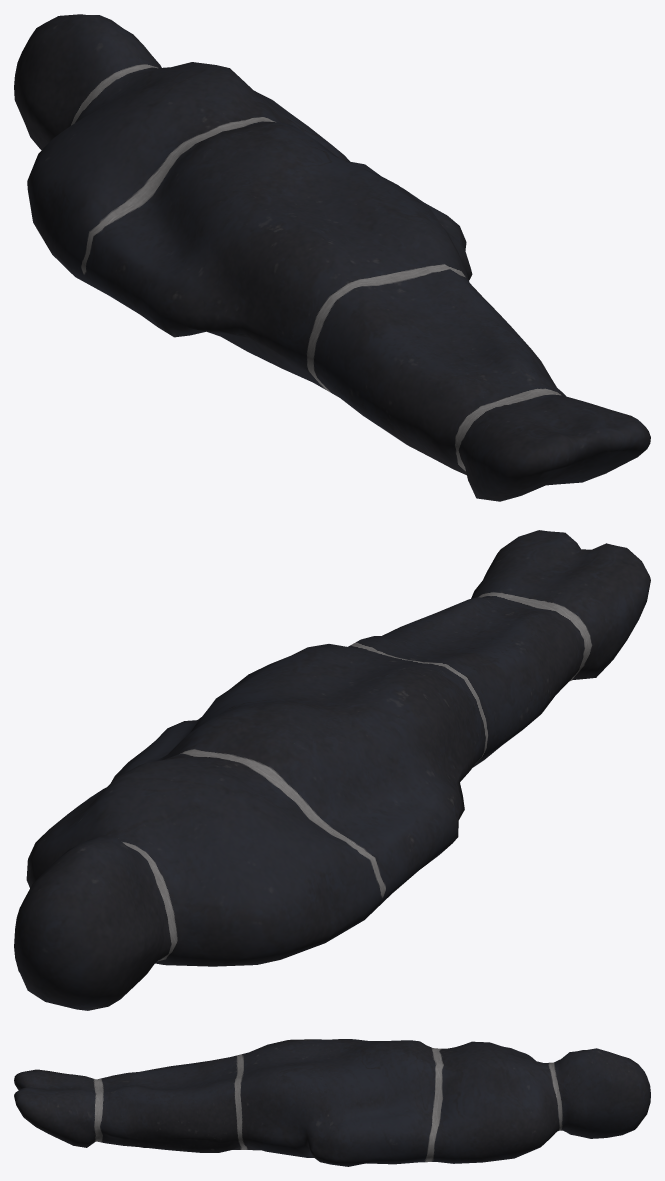
Rendered from MedMorgueBodyBag02.FBX.
3 views of the same model, one above another, from view 1: azimuth 30°, elevation 25°; view 2: azimuth 150°, elevation 25°; view 3: azimuth 270°, elevation 25° (orthographic). The views are drawn at different scales.
Visible parts, largest first — view 1: MedMorgueBodyBag02; view 2: MedMorgueBodyBag02; view 3: MedMorgueBodyBag02.
Part boxes in pixels (left/top/right/bottom): MedMorgueBodyBag02: left=14, top=14, right=650, bottom=501; MedMorgueBodyBag02: left=14, top=530, right=650, bottom=1010; MedMorgueBodyBag02: left=14, top=1039, right=650, bottom=1166.
Size of what is drawn, in the model's own units: 0.6669 by 0.3356 by 2.1.
